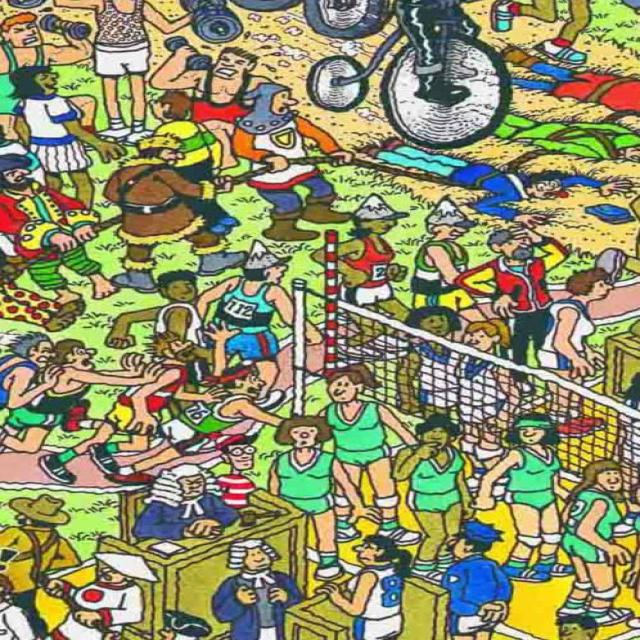waldo: (207, 431, 260, 471)
